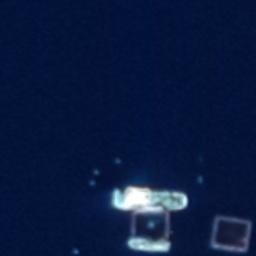square_solid: (123, 203, 177, 248), (204, 209, 256, 254)
